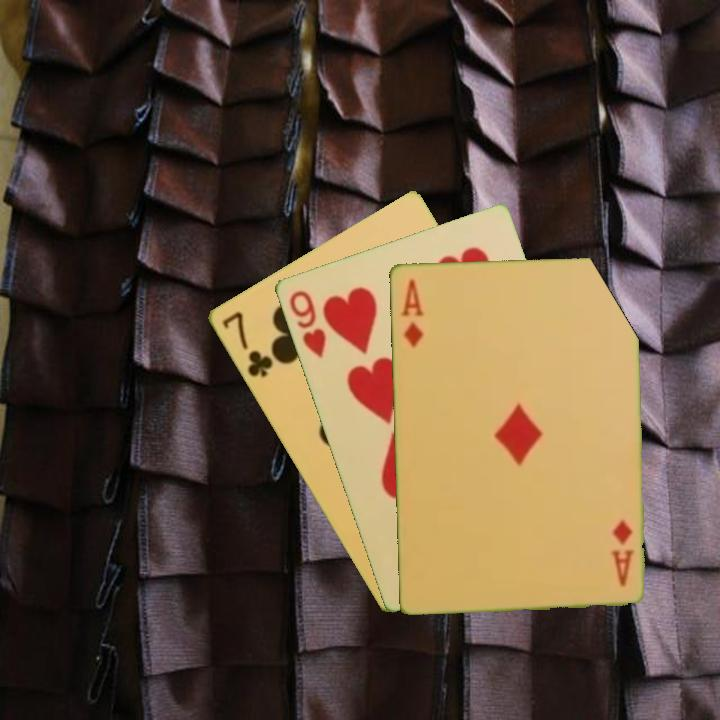7c: (218, 307, 276, 381)
9h: (285, 286, 329, 361)
Ad: (397, 274, 426, 350), (607, 515, 636, 589)
